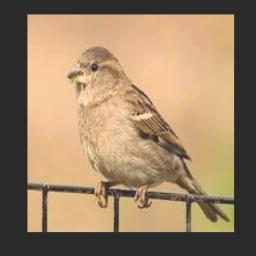Sparrow: (67, 47, 229, 222)
